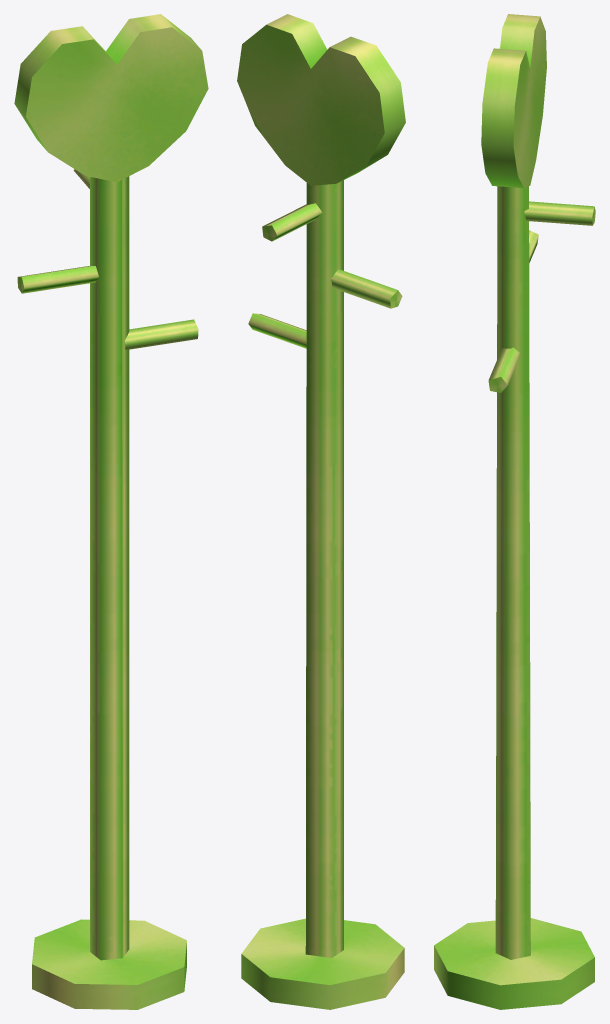
The model's file is furni_0200136_02.FBX.
The picture shows the model from 3 angles, left to right: view 1: azimuth 30°, elevation 25°; view 2: azimuth 150°, elevation 25°; view 3: azimuth 270°, elevation 25°; orthographic projection.
Visible parts, largest first — view 1: furni_0200136_02; view 2: furni_0200136_02; view 3: furni_0200136_02.
Boxes of the visible parts, x1=… form: furni_0200136_02: x1=14, y1=14, x2=208, y2=1009; furni_0200136_02: x1=237, y1=14, x2=405, y2=1009; furni_0200136_02: x1=434, y1=14, x2=595, y2=1009.
Bounding box in the file's own units: 23.96 × 127 × 19.85.
